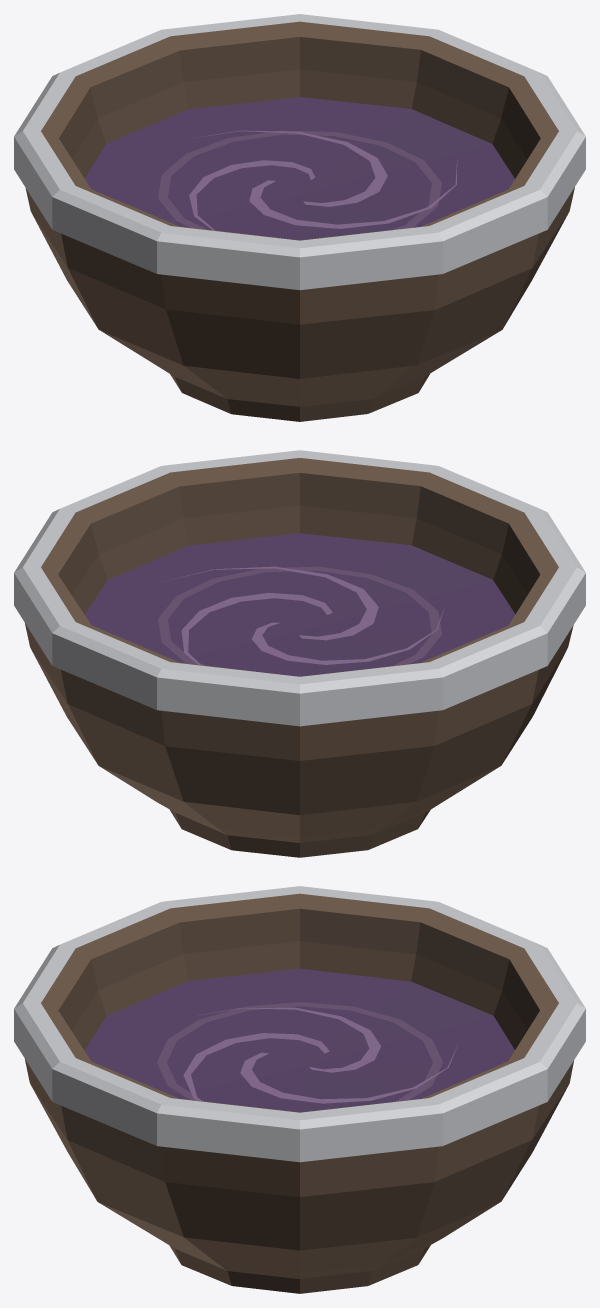
The model's file is bowl_t3.fbx.
The picture shows the model from 3 angles, top to bottom: view 1: azimuth 30°, elevation 25°; view 2: azimuth 150°, elevation 25°; view 3: azimuth 270°, elevation 25°; orthographic projection.
Parts seen in each view (by area): view 1: bowl_t3; view 2: bowl_t3; view 3: bowl_t3.
Boxes of the visible parts, left/top/right/bottom form: bowl_t3: left=14, top=14, right=585, bottom=421; bowl_t3: left=14, top=450, right=585, bottom=857; bowl_t3: left=14, top=886, right=585, bottom=1293.
Bounding box in the file's own units: 14.24 × 6.4 × 14.24.
